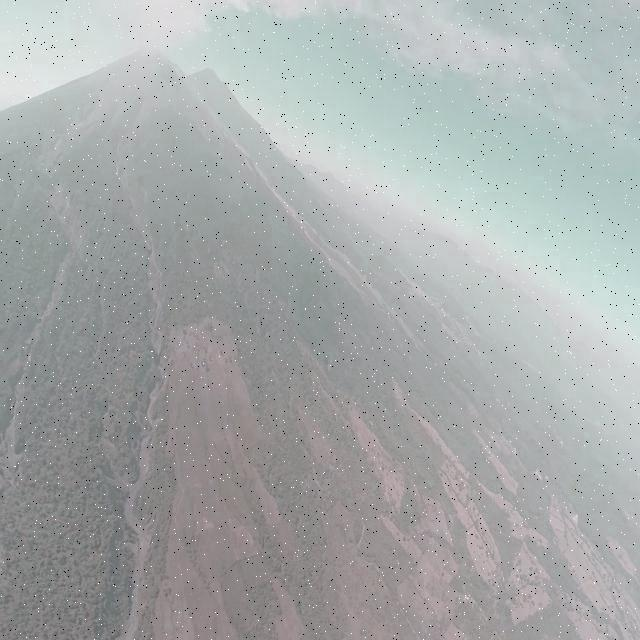Plume: (122, 0, 252, 48)
